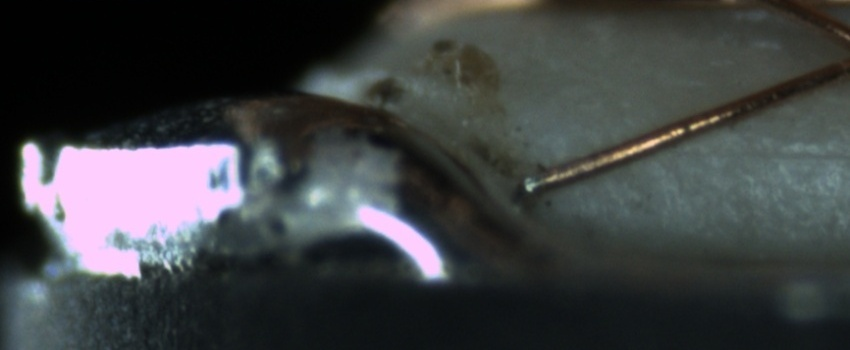DL: (675, 122, 848, 185)
TS: (521, 174, 541, 195)
